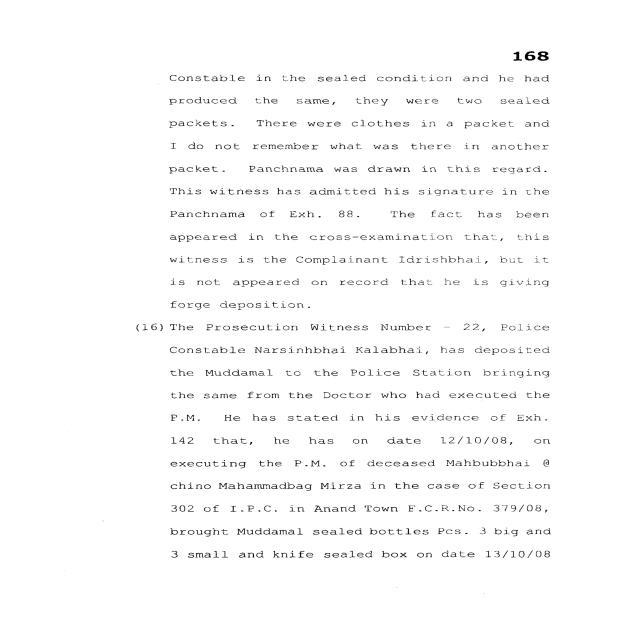page-number: (430, 4, 632, 70)
